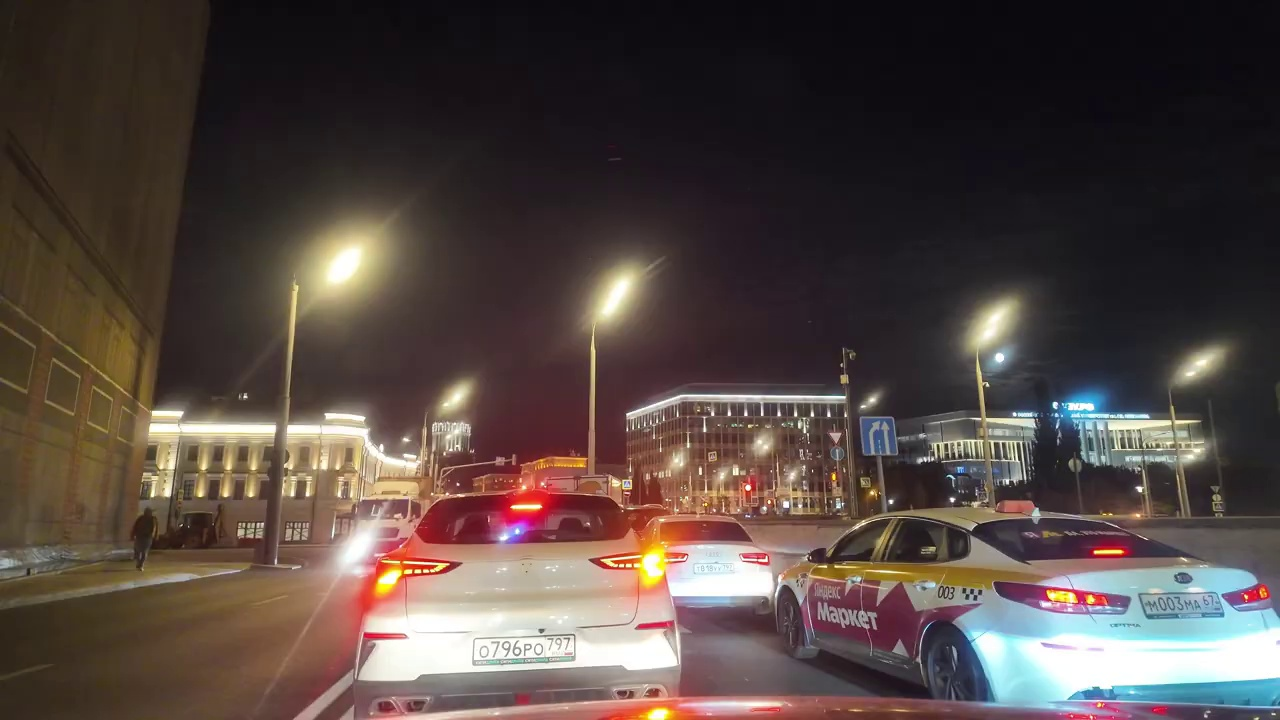acesa: (310, 233, 374, 299), (589, 266, 644, 335), (964, 298, 1020, 363), (1177, 344, 1226, 389)
